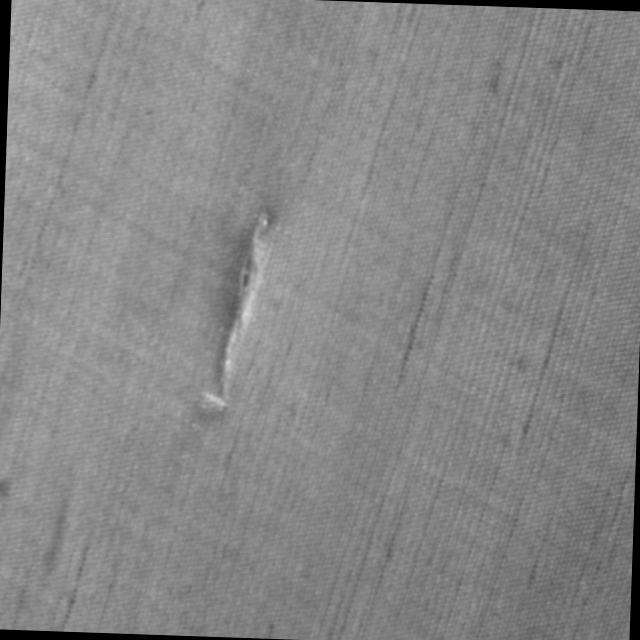hole: (194, 193, 282, 422)
